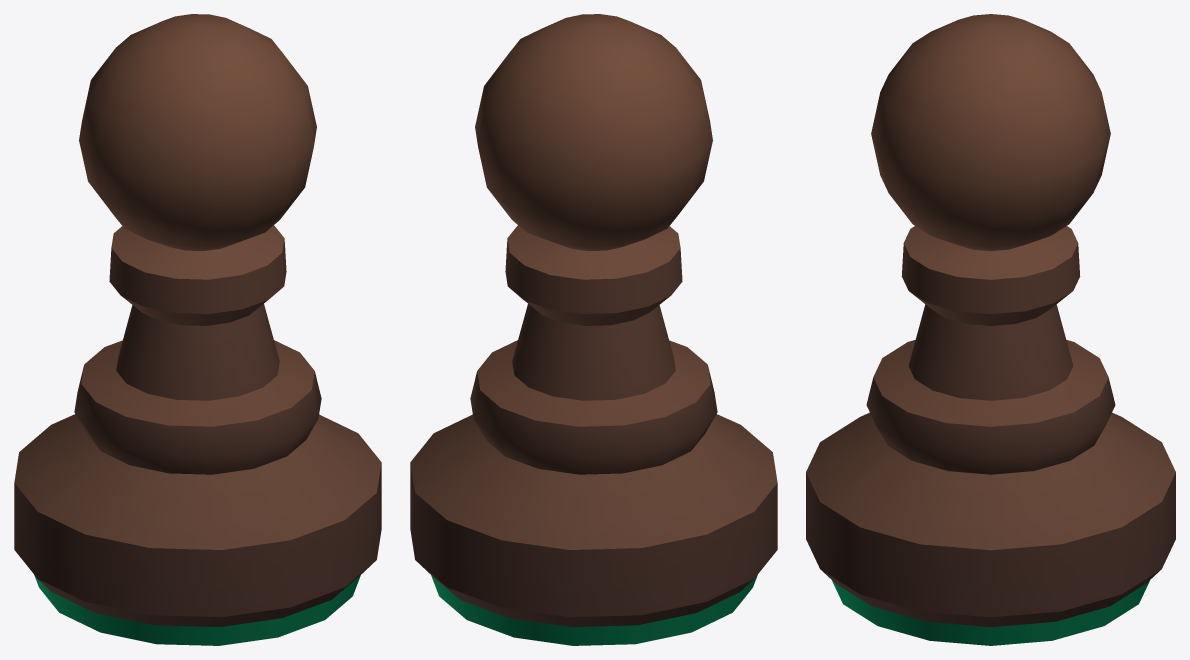
The model's file is chess_black_pawn.gltf.
3 renders of one model, left to right at view 1: azimuth 30°, elevation 25°; view 2: azimuth 150°, elevation 25°; view 3: azimuth 270°, elevation 25°, orthographic.
Parts seen in each view (by area): view 1: chess_black_pawn; view 2: chess_black_pawn; view 3: chess_black_pawn.
Boxes of the visible parts, <box> form: chess_black_pawn: <box>14,14,381,645</box>; chess_black_pawn: <box>410,14,777,645</box>; chess_black_pawn: <box>806,14,1175,645</box>.
Size of the model in its own units: 0.6 by 0.99 by 0.6.
1 material, 1 textured.
